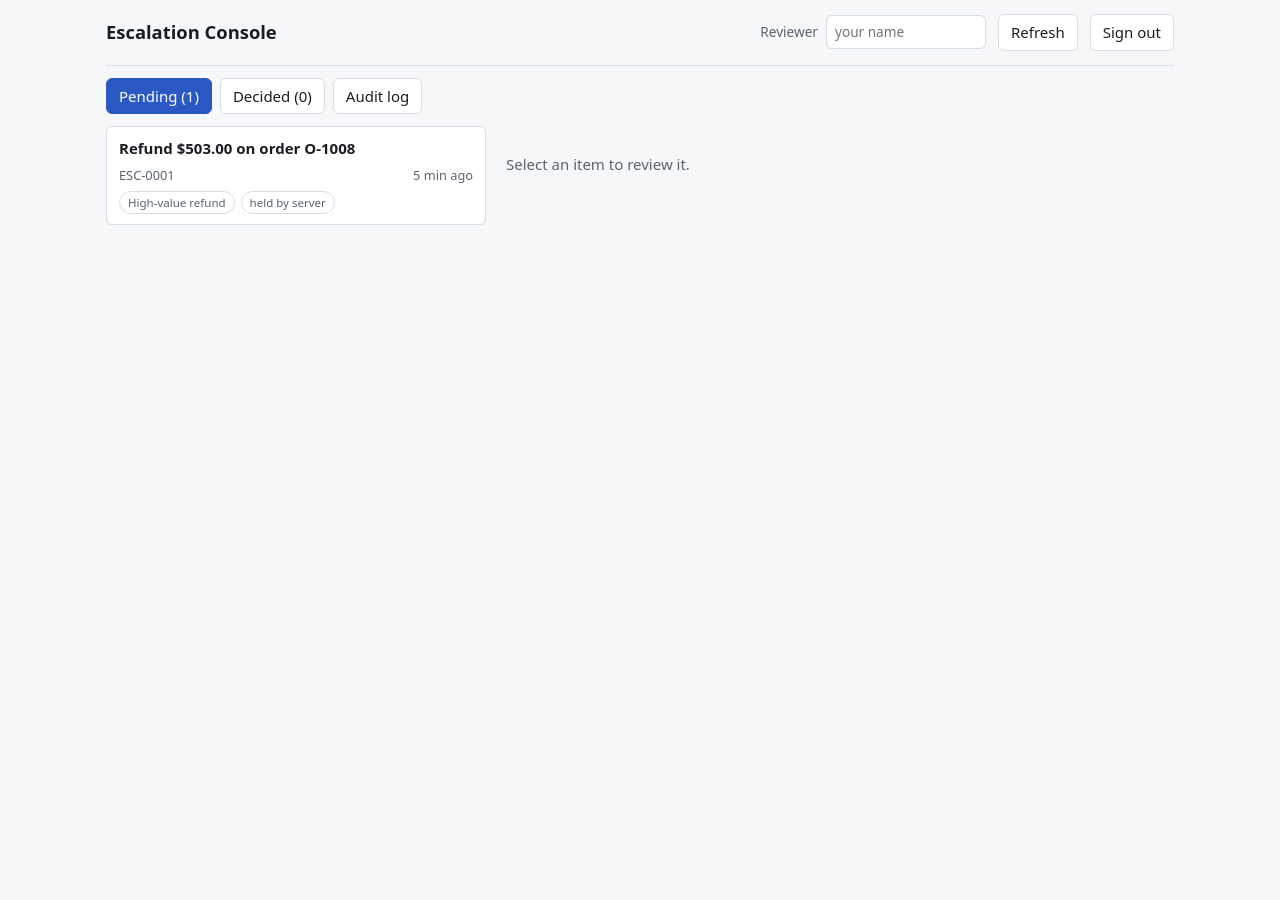
Console › cannot reject without a reason, then rejects with it
Type "arda" into the field with placeholder "your name".
click(906, 32); type("arda")  # box 826,15 -> 986,49
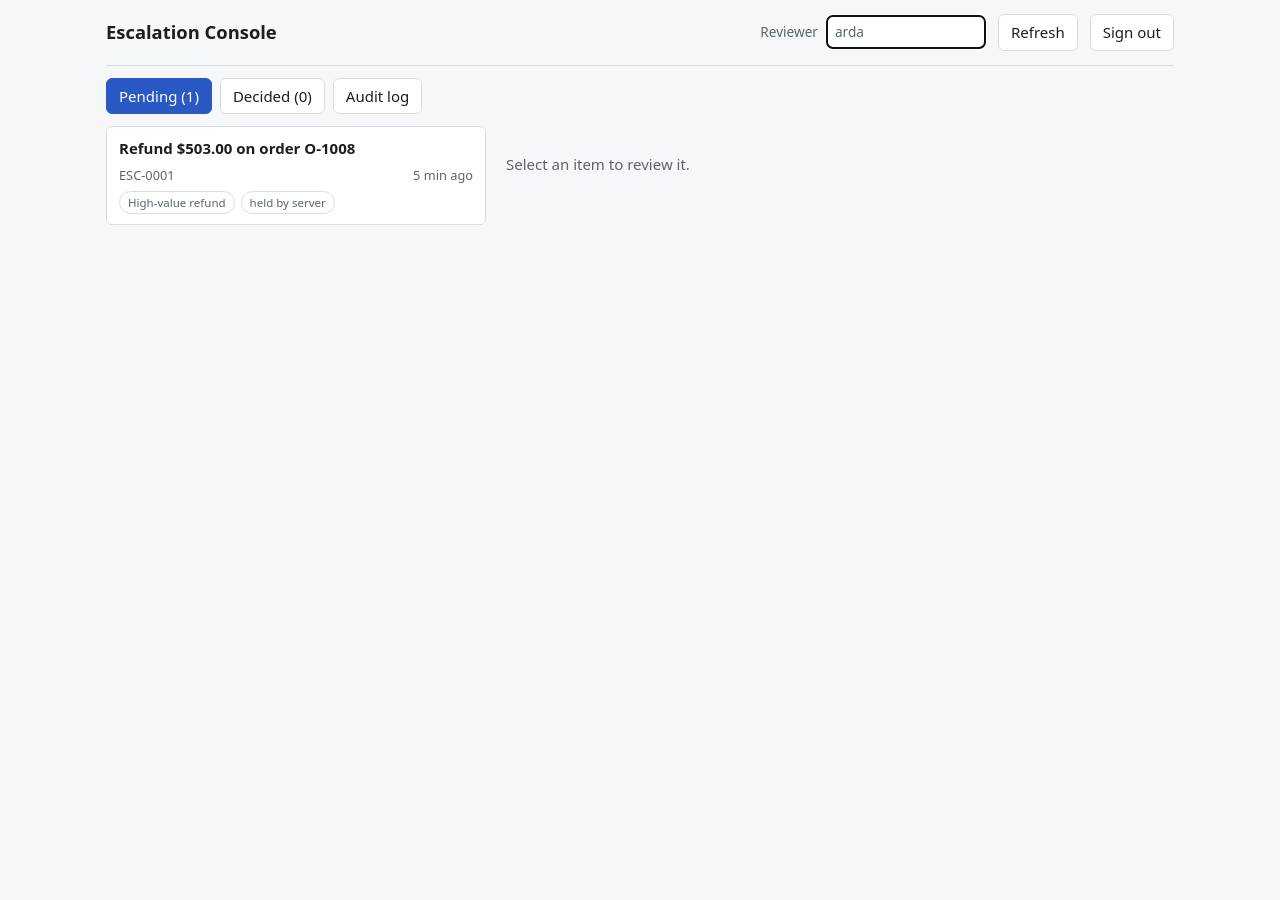
Click the button "Refund $503.00".
click(237, 148)  # box 106,126 -> 486,225
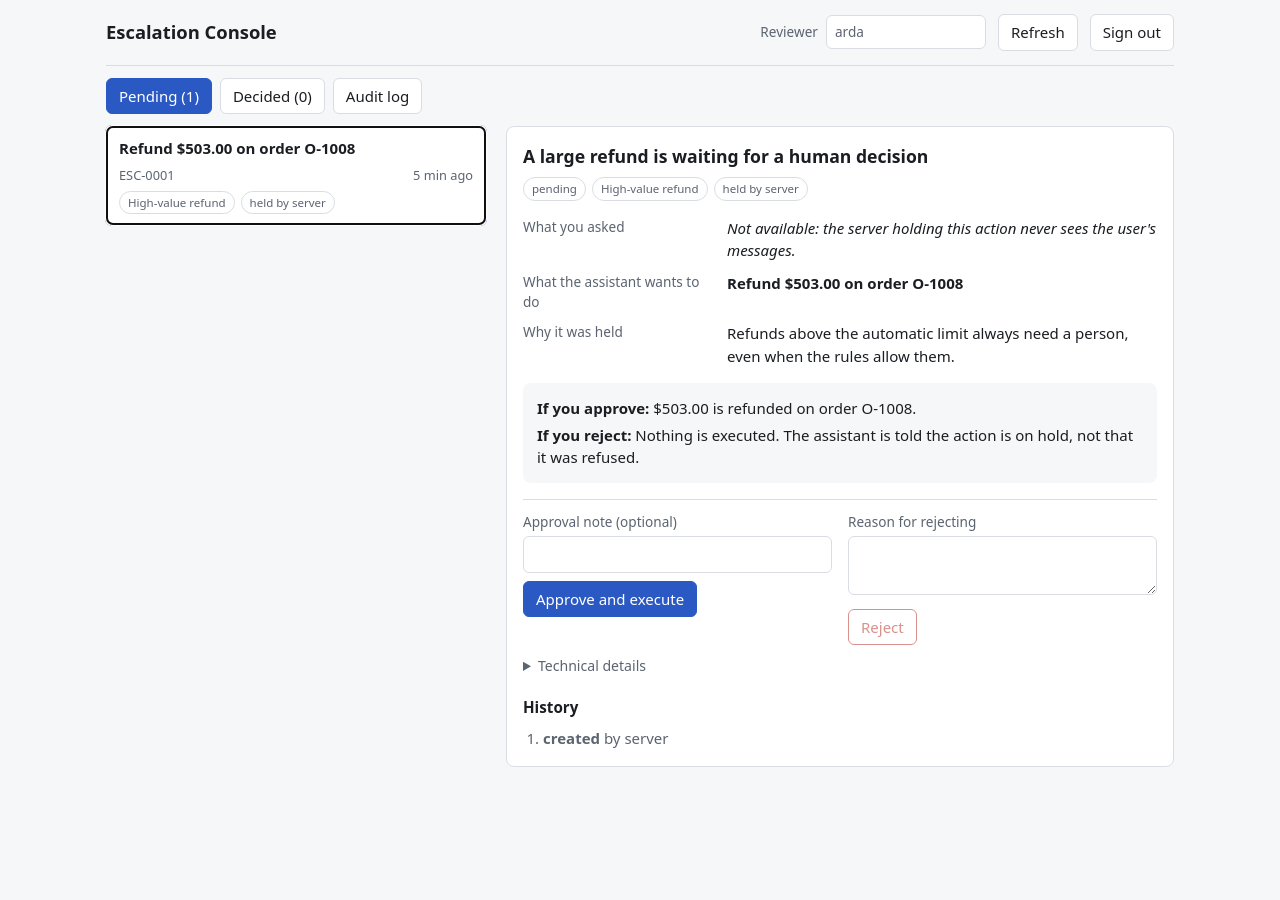
Now the button "Reject" is disabled, box 848,609 -> 917,645
Type "user never asked" into the text box labelled "Reason for rejecting".
click(1002, 566); type("user never asked")  # box 848,536 -> 1157,595
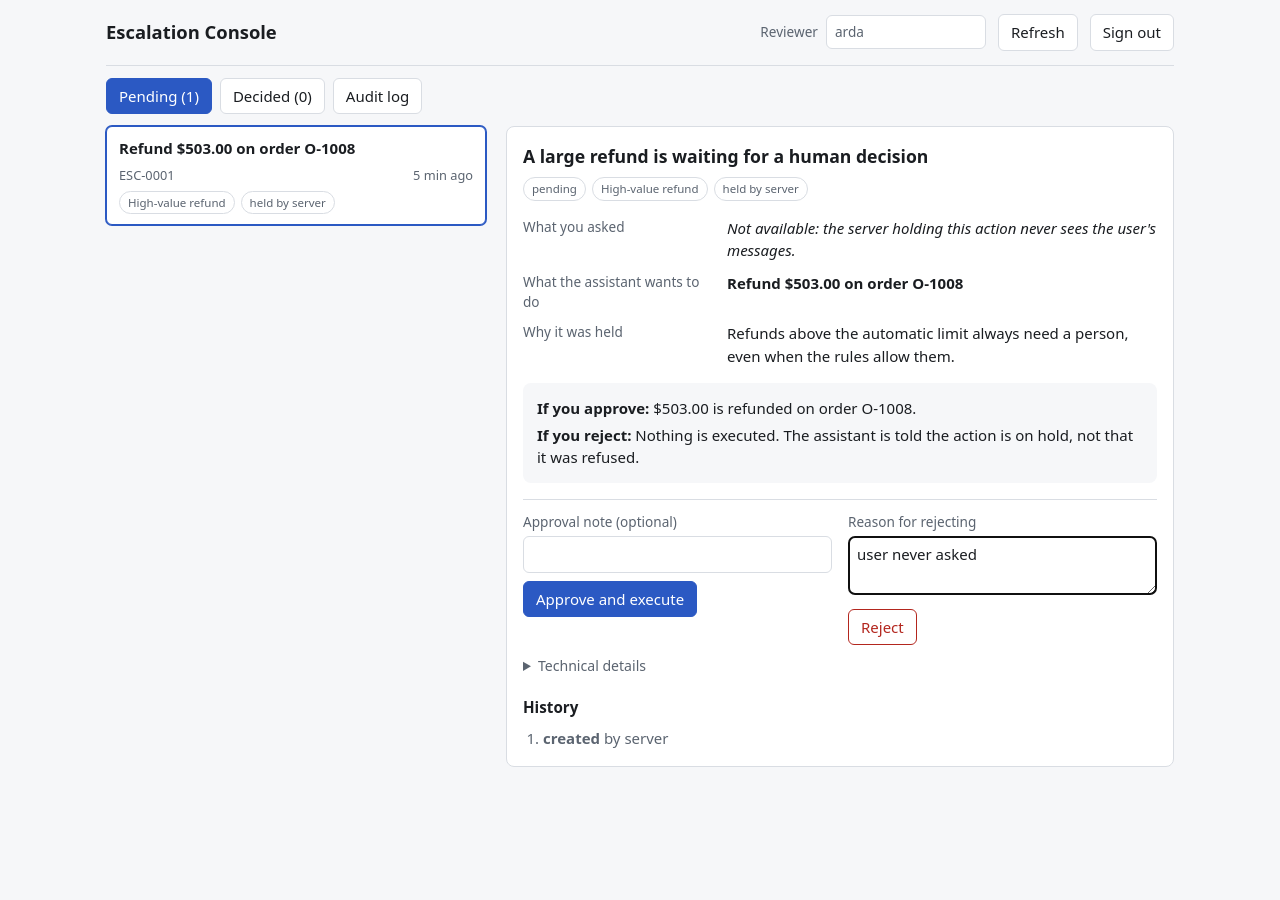
Click the button "Reject".
click(882, 627)  # box 848,609 -> 917,645
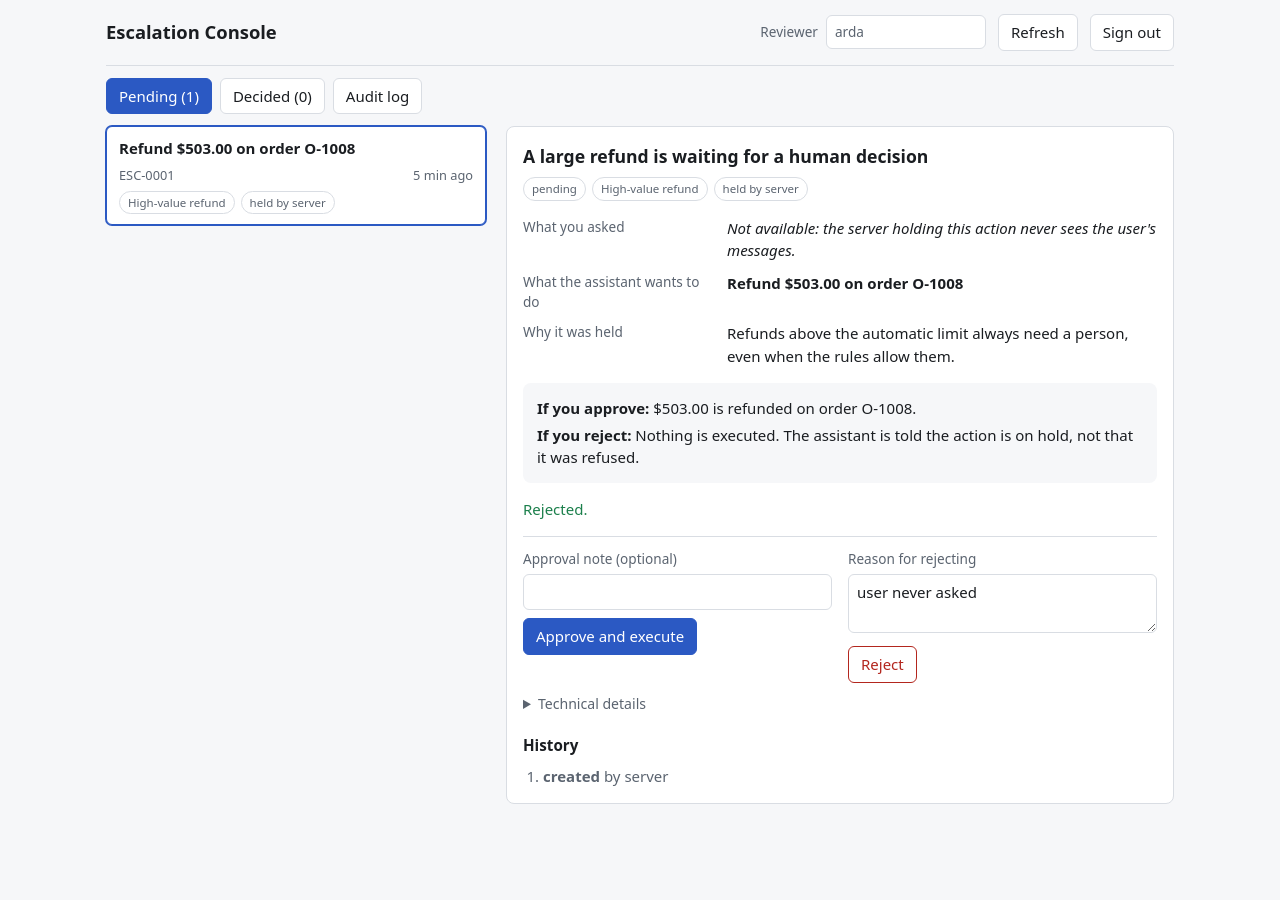
Now the text "Rejected." is shown, box 523,499 -> 588,519
